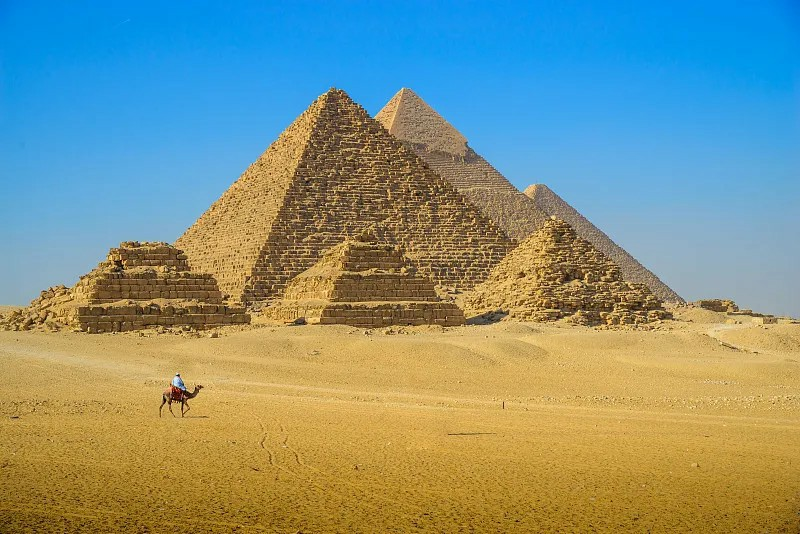Pyramid: (172, 91, 521, 309), (373, 89, 551, 244), (474, 221, 673, 324), (522, 184, 687, 308), (272, 229, 468, 326), (42, 241, 251, 331)
